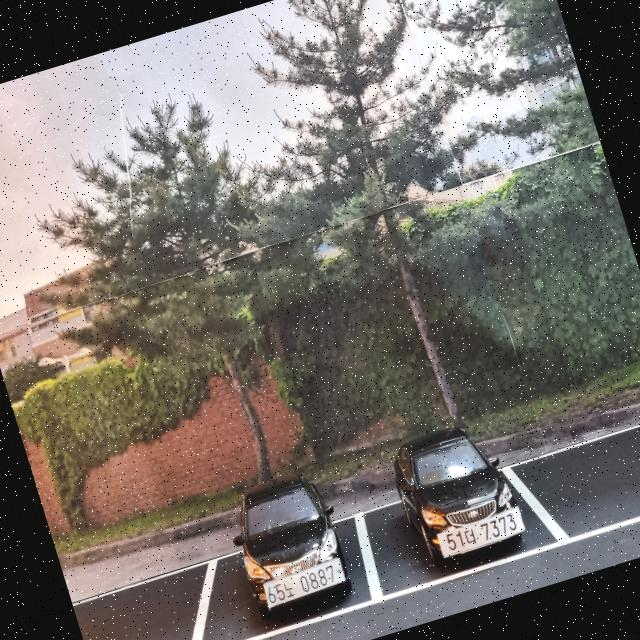empty: (512, 393, 640, 555), (70, 557, 230, 640)
occupied: (175, 423, 374, 640), (353, 384, 548, 593)
